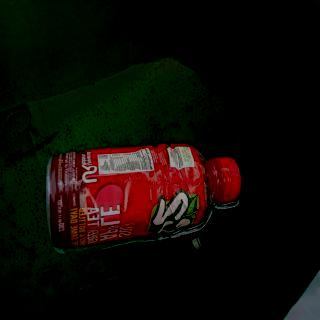bottle: (46, 142, 244, 255)
